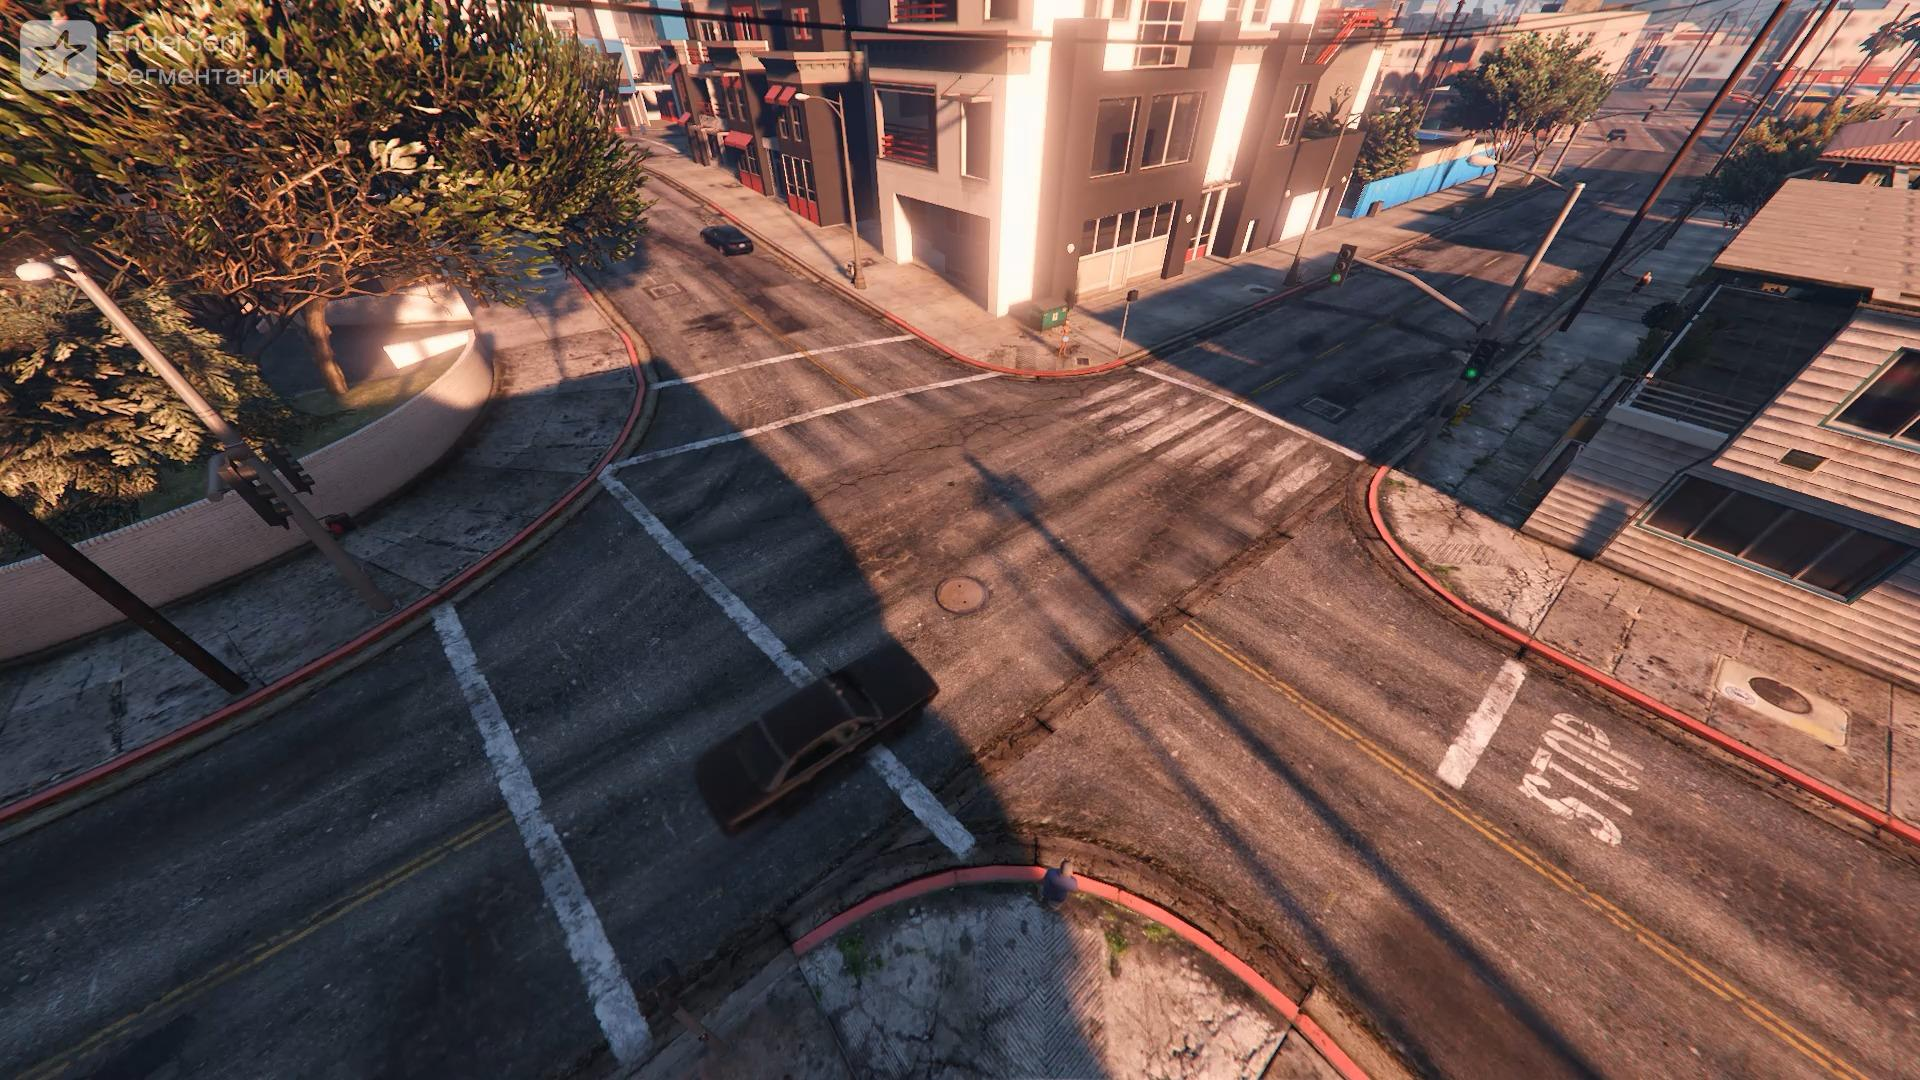car: (684, 646, 936, 837), (699, 224, 754, 256), (1606, 128, 1627, 141)
